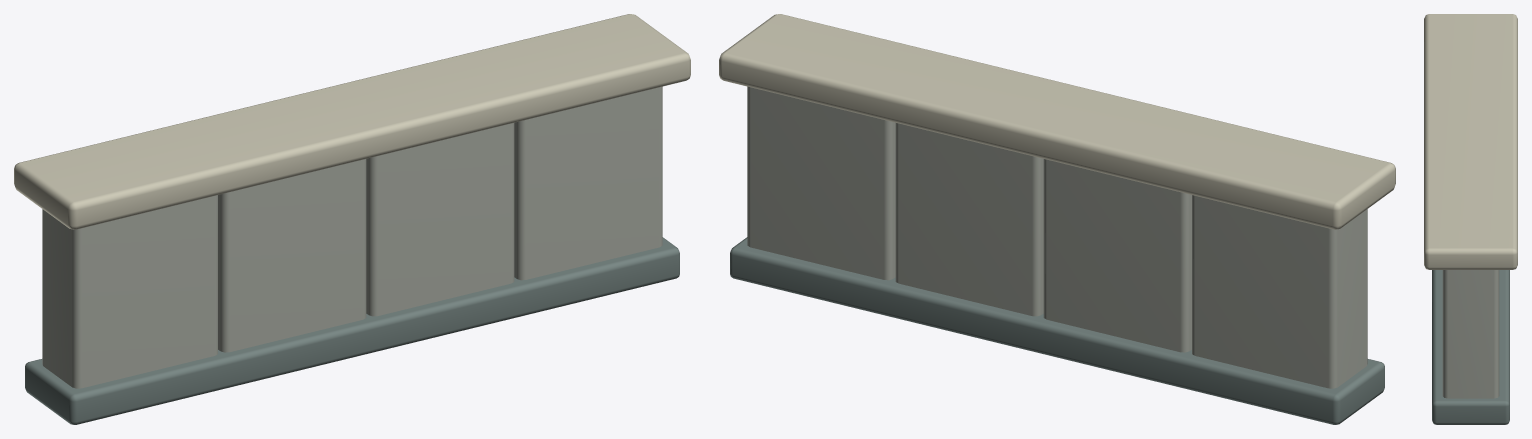
The model's file is SM_Wall_Half_Stone_4x1p5.fbx.
3 views of the same model, side by side, from view 1: azimuth 30°, elevation 25°; view 2: azimuth 150°, elevation 25°; view 3: azimuth 270°, elevation 25° (orthographic). The views are drawn at different scales.
Parts seen in each view (by area): view 1: SM_Wall_Half_Stone_4x1p5; view 2: SM_Wall_Half_Stone_4x1p5; view 3: SM_Wall_Half_Stone_4x1p5.
Part boxes in pixels (x1,y1,x2,y2): SM_Wall_Half_Stone_4x1p5: (14, 14, 690, 424); SM_Wall_Half_Stone_4x1p5: (719, 14, 1395, 424); SM_Wall_Half_Stone_4x1p5: (1424, 14, 1517, 424).
Bounding box in the file's own units: 4.2 × 1.47 × 0.7.
